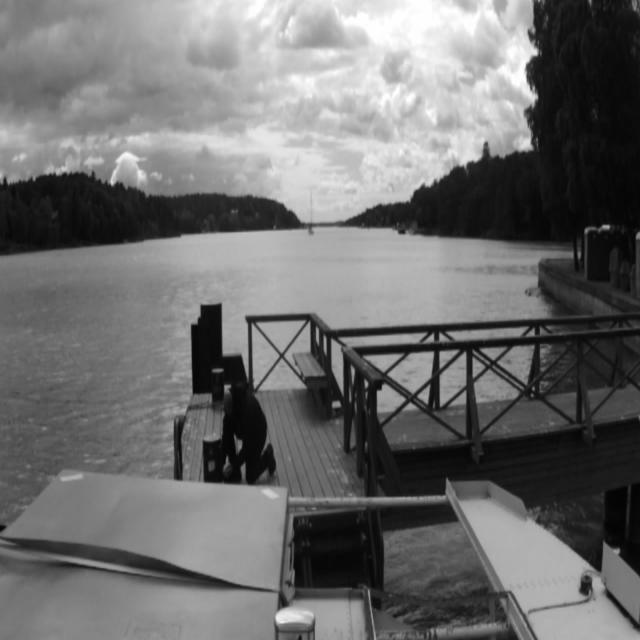ship: (308, 192, 314, 235)
